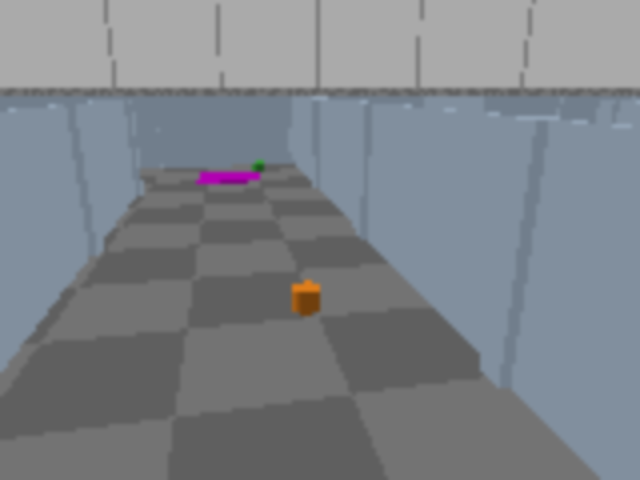goal_zone: (197, 170, 261, 184)
puck: (293, 282, 322, 315)
